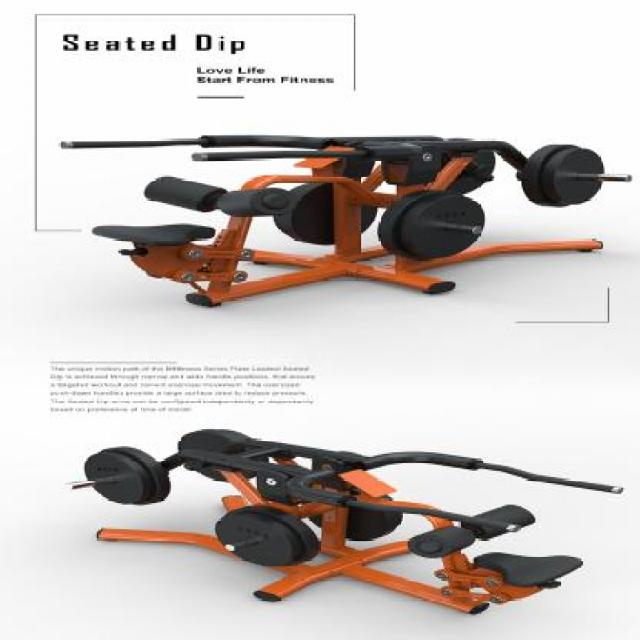seated dip machine: (69, 425, 626, 620), (51, 132, 634, 311)
